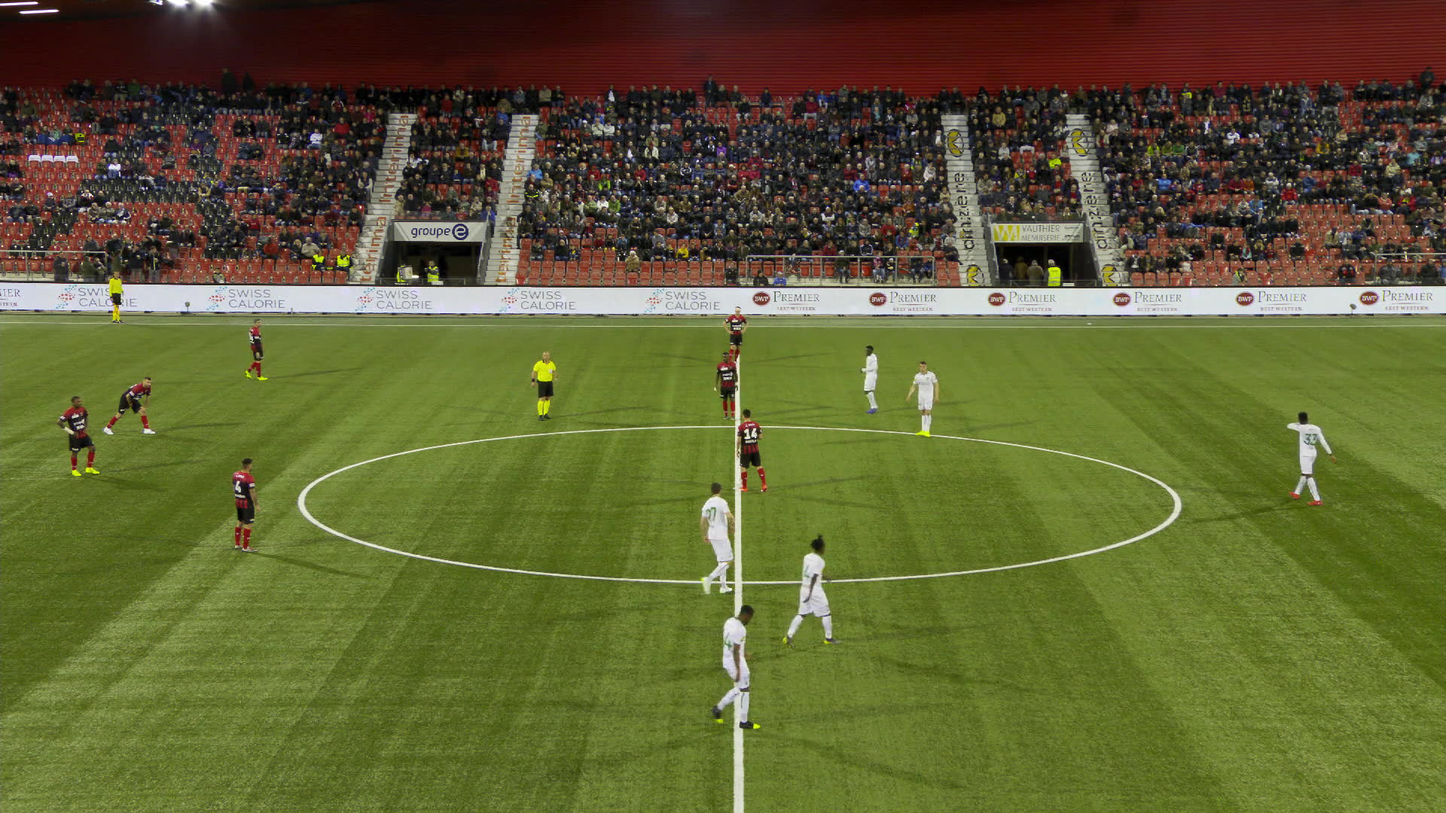player: (705, 603, 763, 729), (787, 531, 838, 647), (694, 483, 738, 596), (1286, 410, 1336, 505), (59, 394, 103, 476), (102, 376, 156, 434), (230, 457, 261, 553), (735, 408, 767, 493), (906, 360, 939, 437), (713, 351, 738, 421), (856, 346, 881, 414), (243, 318, 269, 380), (721, 306, 749, 363)
referee: (530, 351, 559, 421), (108, 269, 124, 323)
